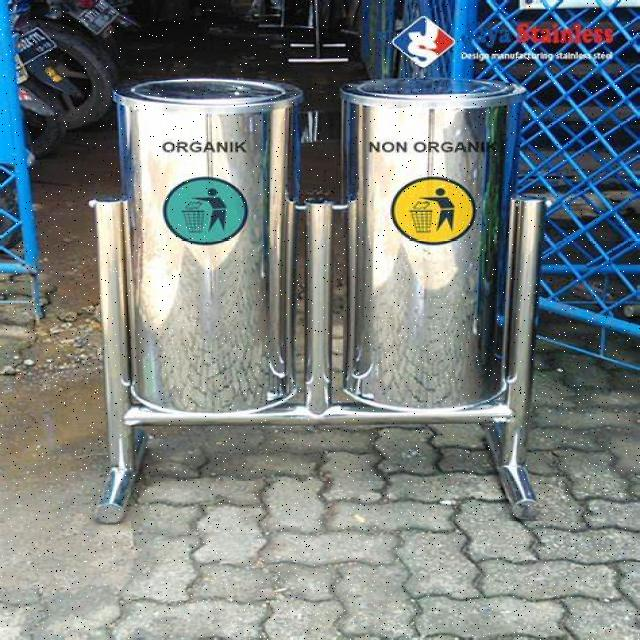garbage container: (70, 64, 342, 428), (324, 51, 534, 433)
